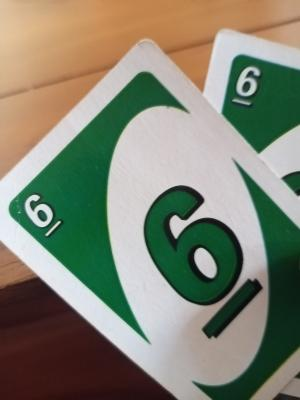green: (57, 145, 275, 330)
num_6: (13, 191, 67, 241), (232, 52, 267, 112)
